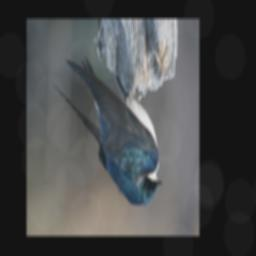Swallow: (52, 57, 162, 206)
